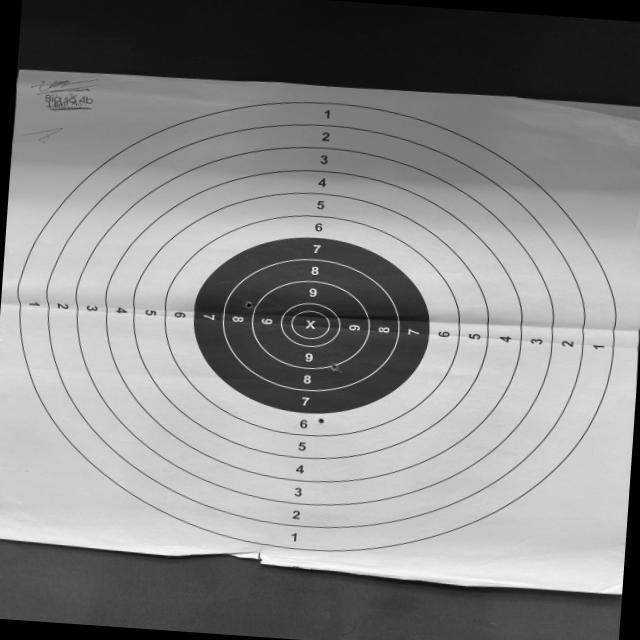bullet: (244, 301, 252, 307), (318, 418, 323, 423), (331, 365, 337, 369)
target: (0, 71, 640, 593)
